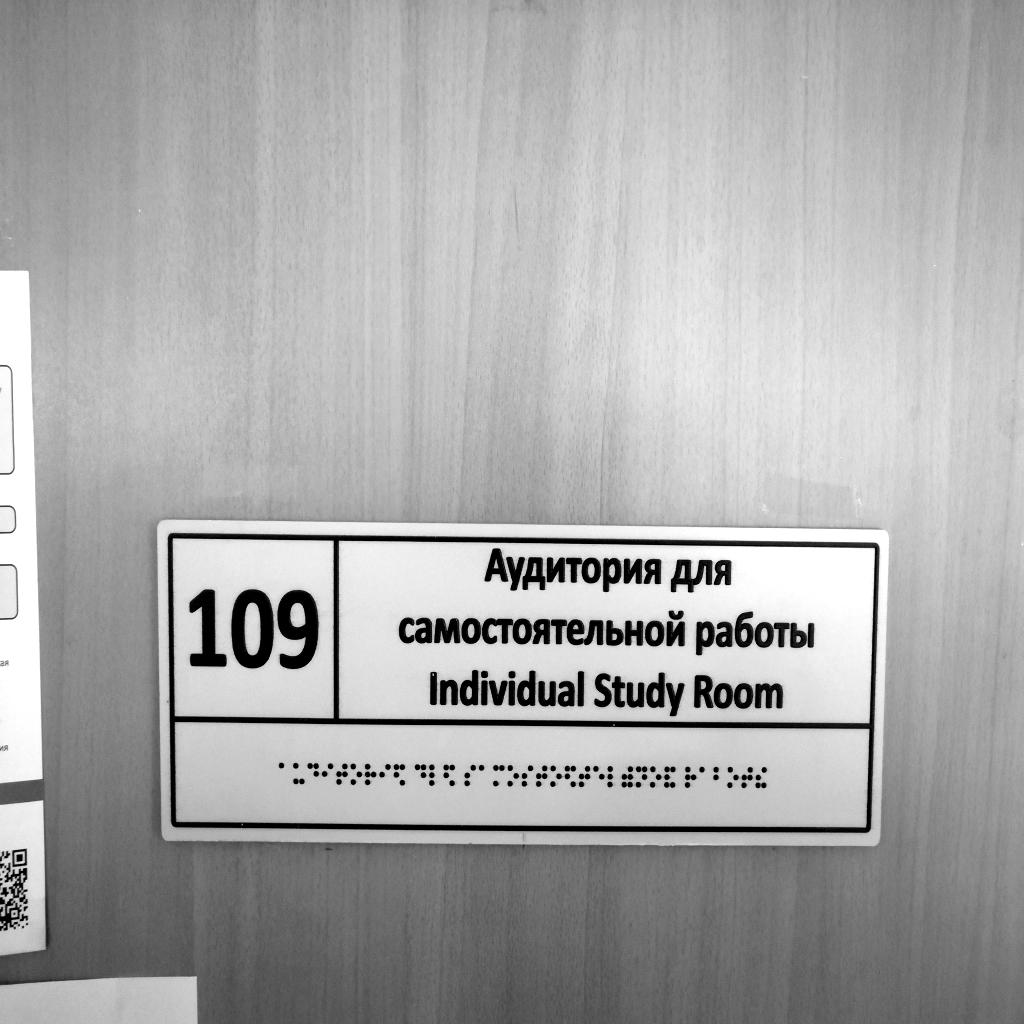_n: (636, 766, 647, 788)
_y: (292, 761, 306, 785)
a: (278, 761, 291, 785), (478, 764, 491, 787), (699, 766, 711, 788)
b: (713, 766, 725, 788)
d: (414, 763, 427, 787), (307, 762, 319, 785)
e: (593, 764, 605, 788)
i: (322, 762, 334, 785), (379, 763, 391, 785)
iKratkoe: (664, 766, 676, 789)
ii: (756, 766, 767, 788)
l: (429, 763, 442, 786), (607, 766, 620, 788)
m: (493, 764, 505, 787)
myagkiy: (622, 765, 633, 788)
o: (350, 763, 363, 785), (508, 764, 520, 786), (550, 765, 562, 787), (727, 766, 739, 788), (650, 766, 661, 788)
r: (365, 762, 377, 787), (685, 766, 697, 788)
s: (463, 763, 477, 788), (522, 765, 534, 788)
t: (578, 764, 591, 789), (336, 762, 348, 786), (536, 765, 548, 788), (741, 766, 753, 789)
ya: (444, 763, 456, 788), (393, 763, 405, 787), (564, 765, 576, 788)
